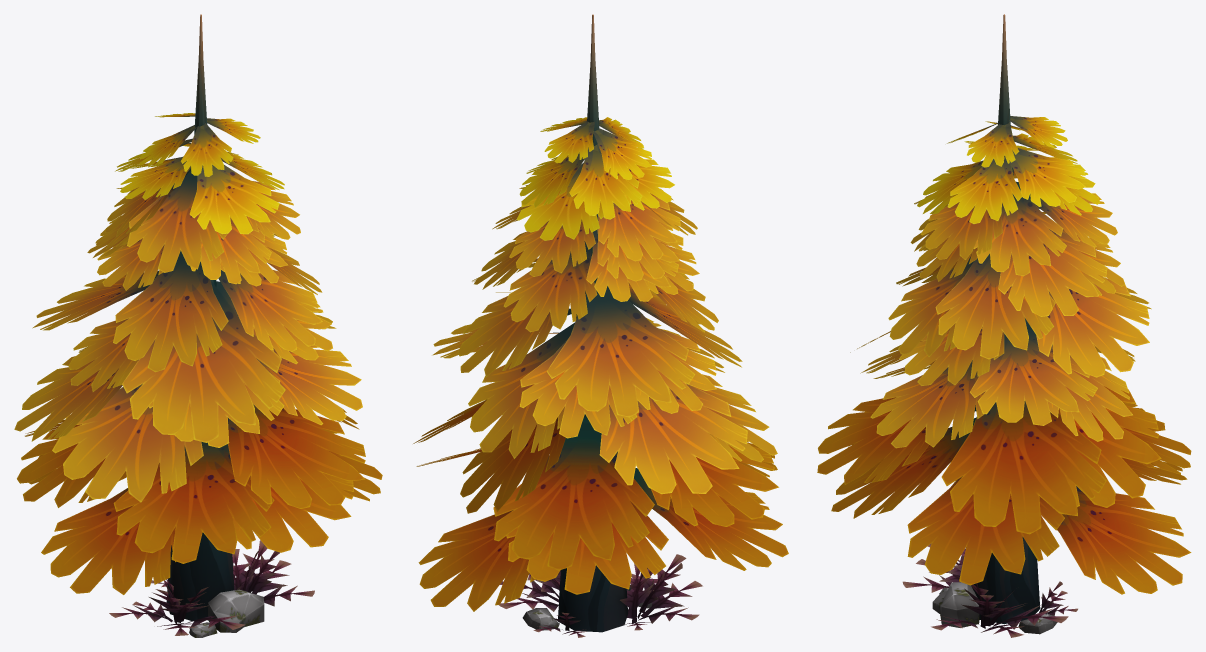
File: tree7.obj
3 renders of one model, left to right at view 1: azimuth 30°, elevation 25°; view 2: azimuth 150°, elevation 25°; view 3: azimuth 270°, elevation 25°, orthographic.
Visible parts, largest first — view 1: Tree7_Cylinder002; view 2: Tree7_Cylinder002; view 3: Tree7_Cylinder002.
Boxes of the visible parts, left/top/right/bottom form: Tree7_Cylinder002: left=14, top=14, right=382, bottom=637; Tree7_Cylinder002: left=413, top=14, right=788, bottom=637; Tree7_Cylinder002: left=817, top=14, right=1191, bottom=637.
Bounding box in the file's own units: 3.36 × 5.69 × 3.22.
Materials: 1 (1 with a texture image).
